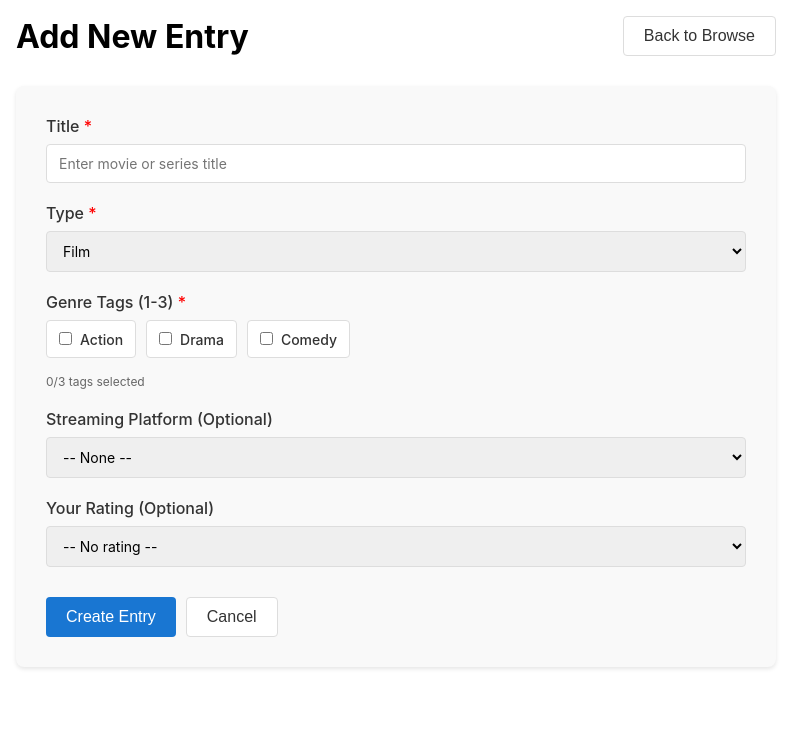
Test case: Add Entry Flow - Integration Test › should handle API errors gracefully
Expected: the checkbox labelled "Action" is shown, [59,332,72,345]
// Fill in form
Type "Duplicate Movie" into the field labelled "Title *".
click(396, 164); type("Duplicate Movie")  # box [46,144,746,183]
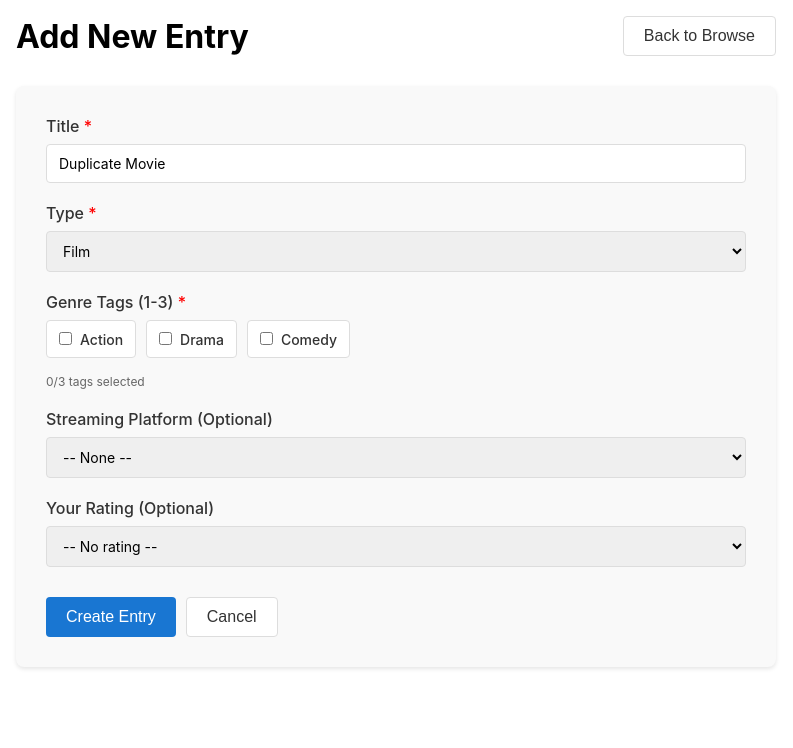
Click the checkbox labelled "Action".
click(66, 338)  # box [59,332,72,345]
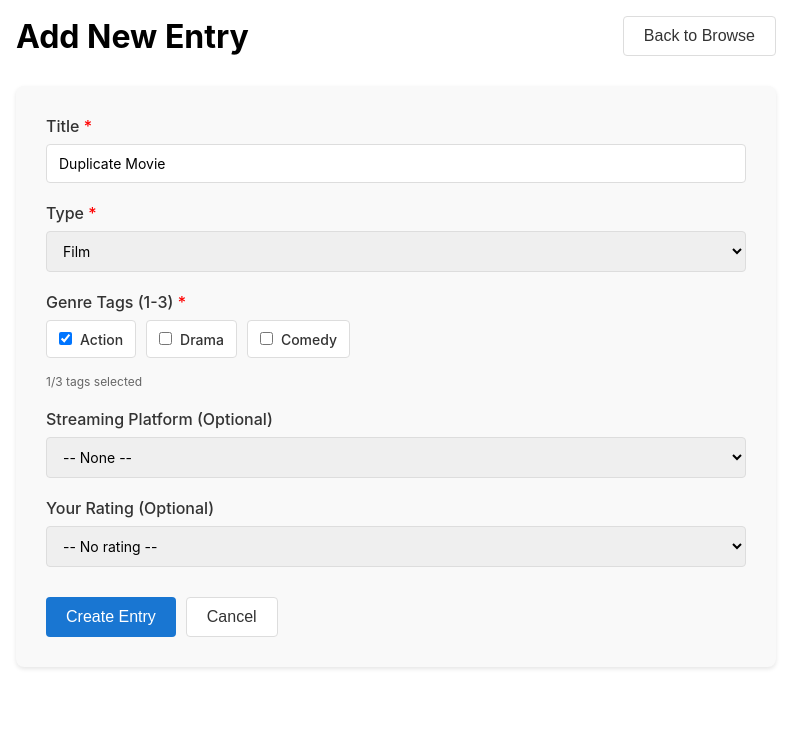
// Submit form
Click the button "Create Entry".
click(111, 617)  # box [46,597,176,637]
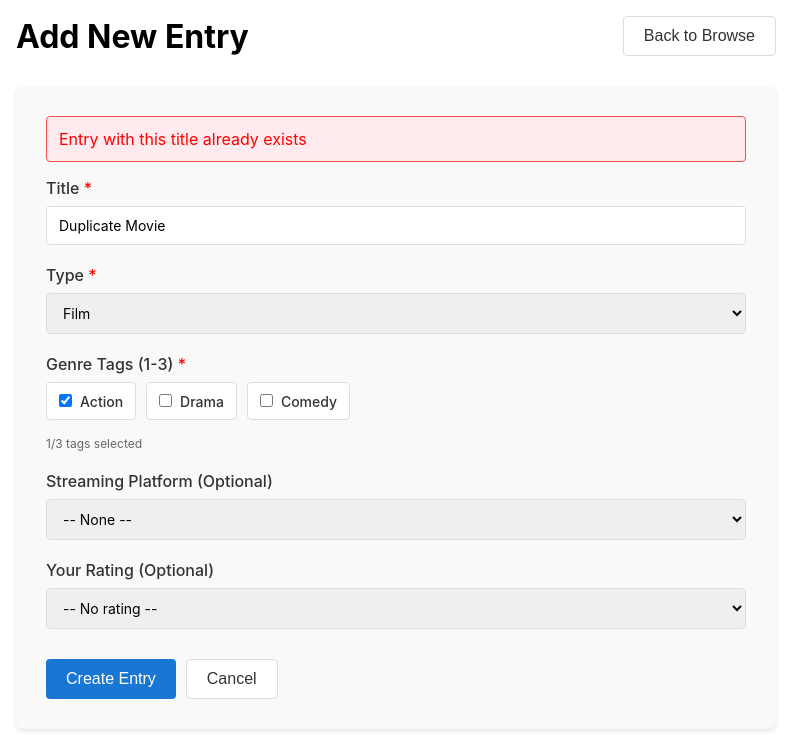
Expected: the text "Entry with this title already exists" is shown, [46,116,746,162]
